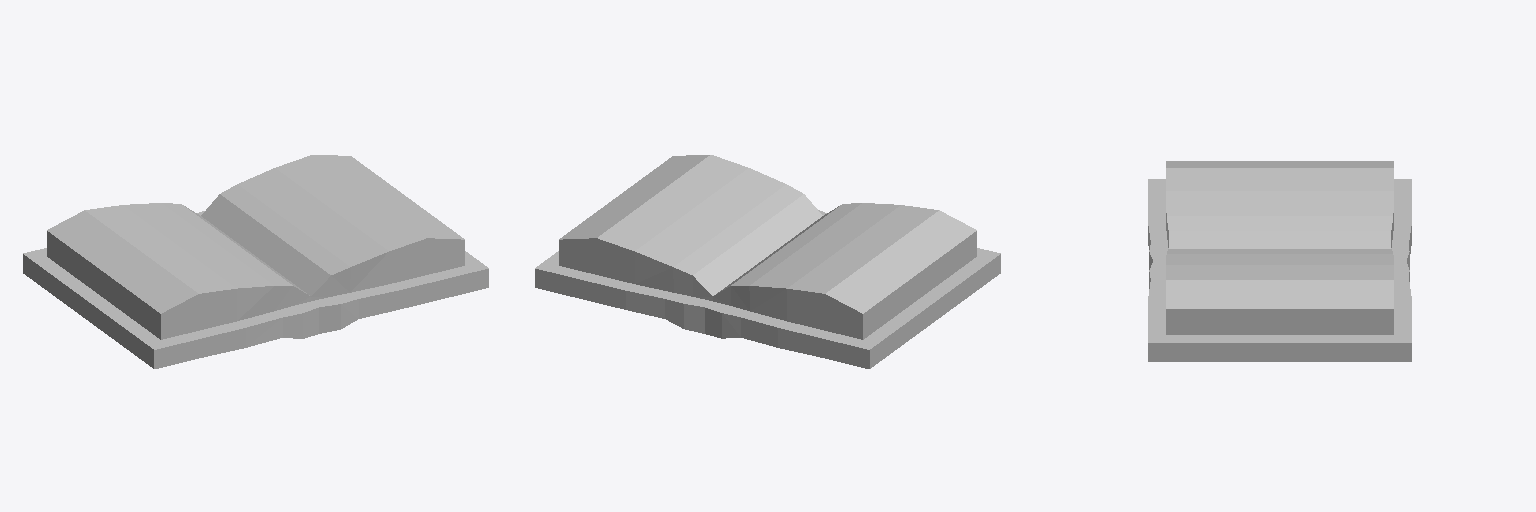
Rendered from libro_abierto.obj.
3 views of the same model, side by side, from view 1: azimuth 30°, elevation 25°; view 2: azimuth 150°, elevation 25°; view 3: azimuth 270°, elevation 25° (orthographic).
Parts seen in each view (by area): view 1: Libro_Abierto001; view 2: Libro_Abierto001; view 3: Libro_Abierto001.
Boxes of the visible parts, <box> form: Libro_Abierto001: <box>23,155,488,368</box>; Libro_Abierto001: <box>535,155,1000,368</box>; Libro_Abierto001: <box>1148,161,1411,361</box>.
Size of the model in its own units: 82.3 by 14.93 by 56.1.